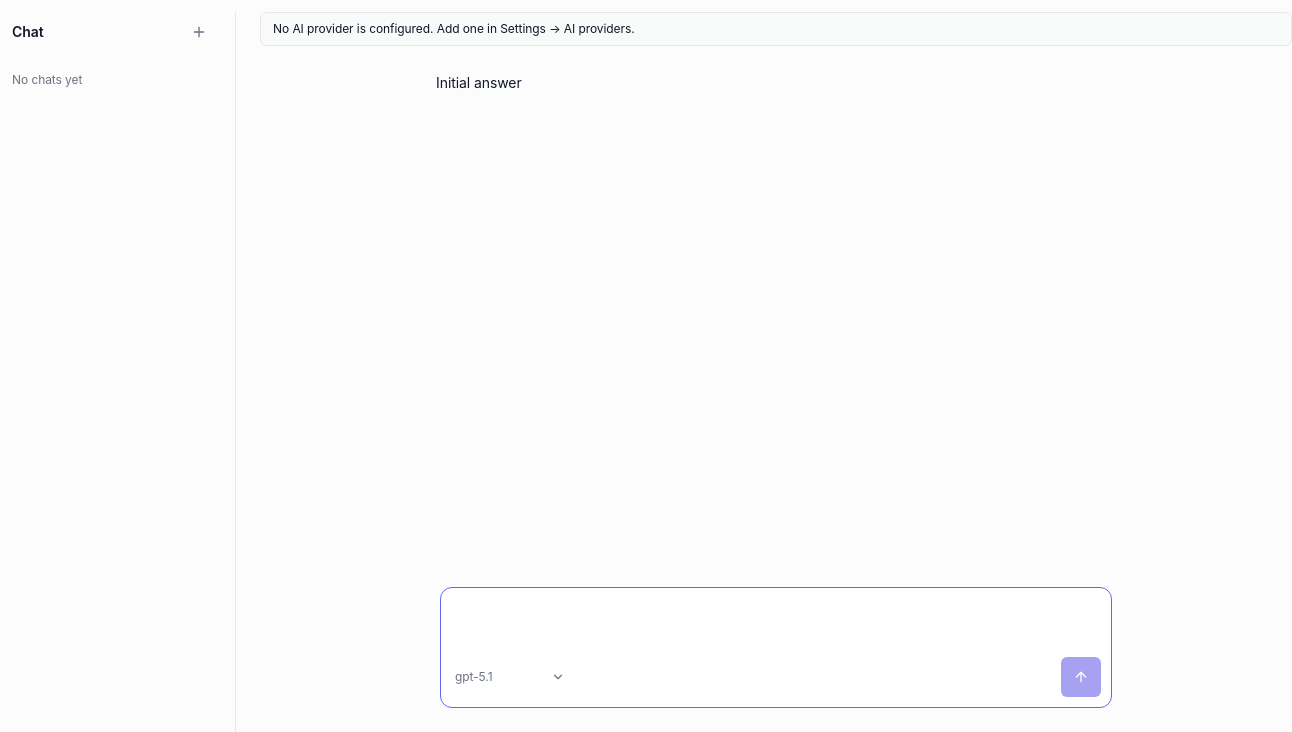
Test: ChatSurface › renders a newly submitted user message as a scroller item
Type "follow up" into the text box named "Chat message". click: (776, 620)
box: [441,588,1111,652]
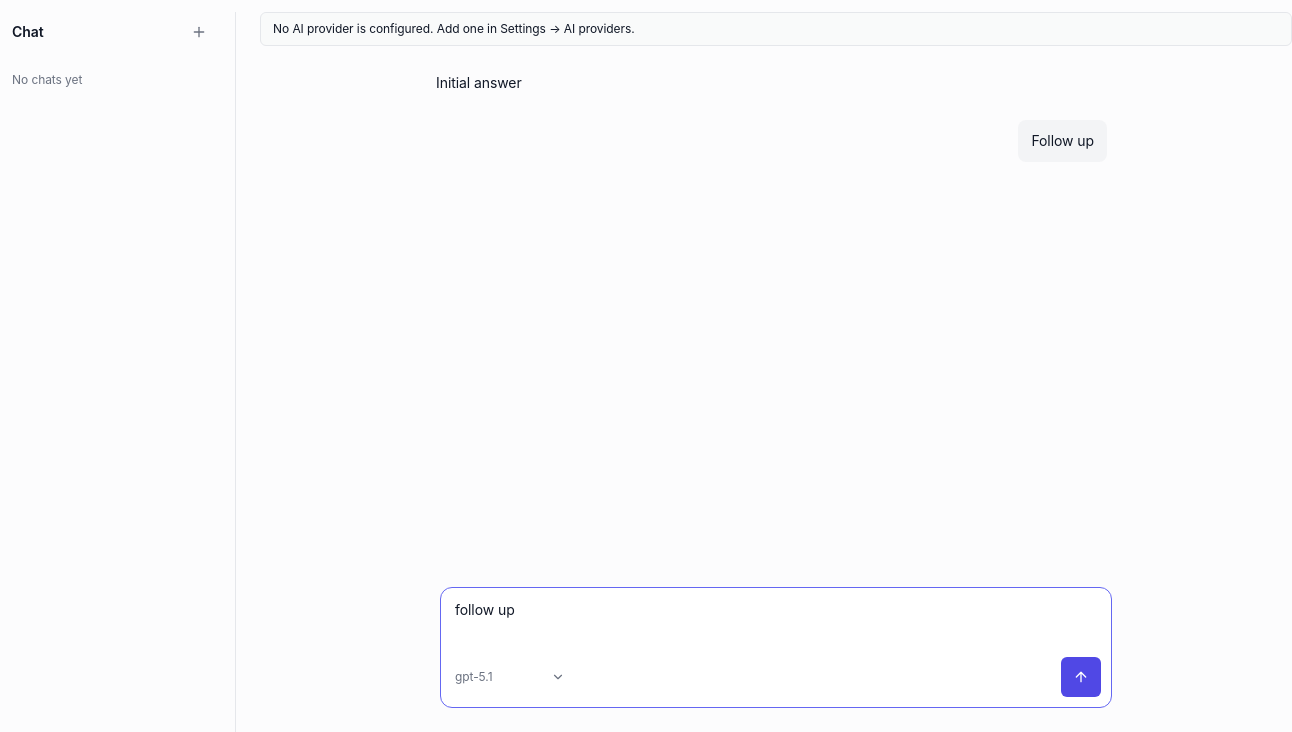
Expected: the text "Follow up" is shown, [1031,132,1094,149]
